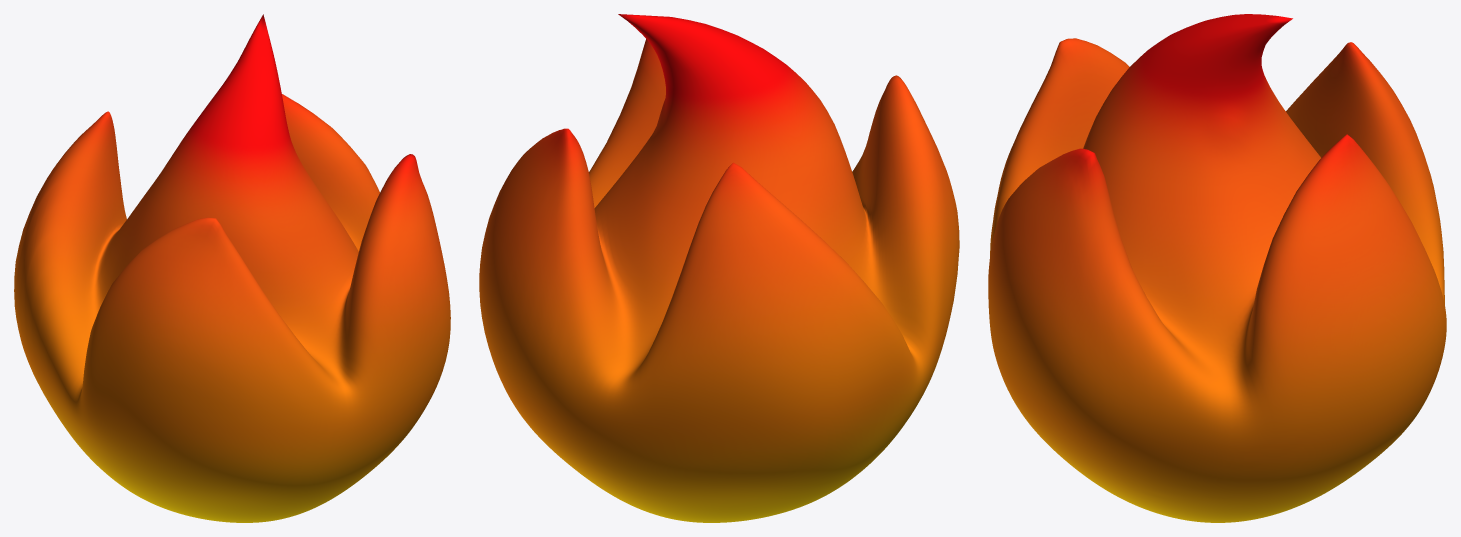
Rendered from Fire.gltf.
3 views of the same model, side by side, from view 1: azimuth 30°, elevation 25°; view 2: azimuth 150°, elevation 25°; view 3: azimuth 270°, elevation 25° (orthographic). The views are drawn at different scales.
Parts seen in each view (by area): view 1: Sphere; view 2: Sphere; view 3: Sphere.
Boxes of the visible parts, bbox=[...] form: Sphere: bbox=[14, 14, 450, 522]; Sphere: bbox=[479, 14, 959, 522]; Sphere: bbox=[988, 14, 1446, 522].
Bounding box in the file's own units: 2.33 × 2.83 × 2.27.
Materials: 1 (1 with a texture image).
